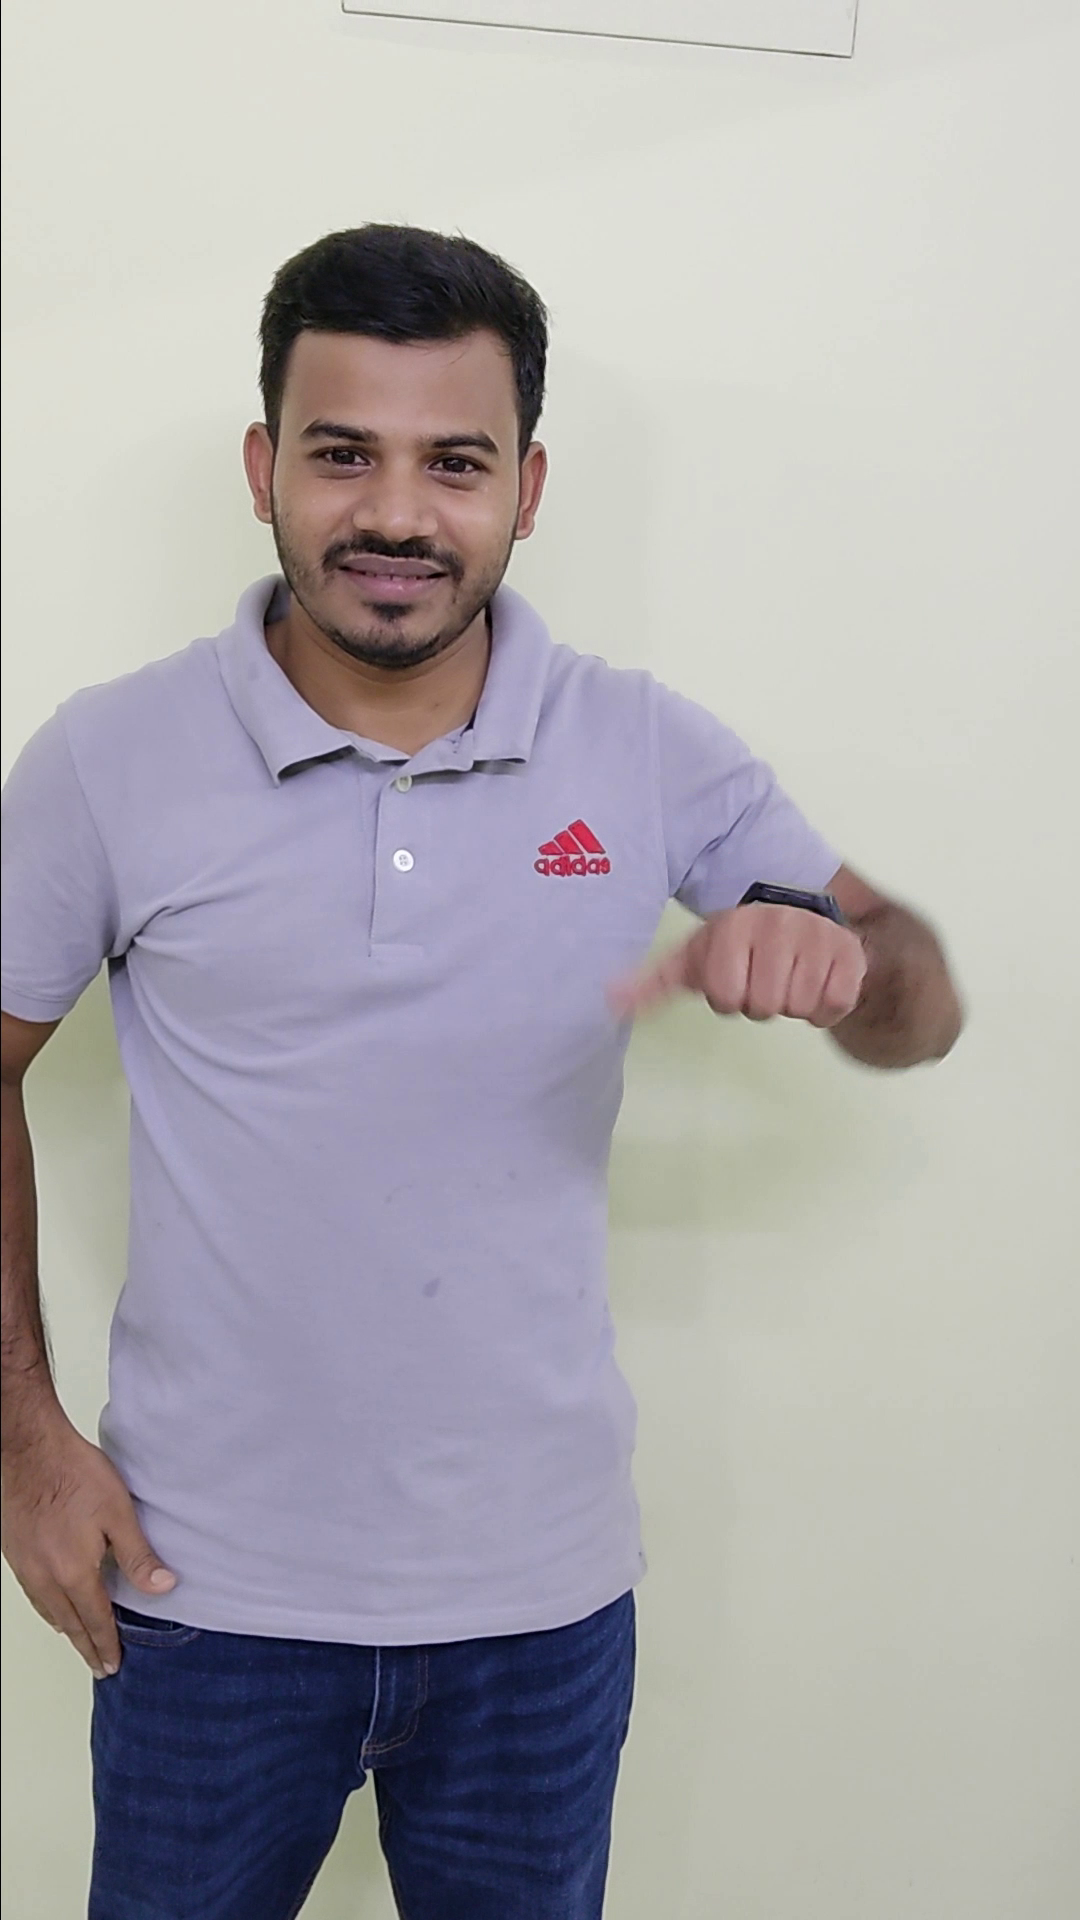Dislike: (583, 865, 903, 1052)
None: (3, 1393, 187, 1684)
